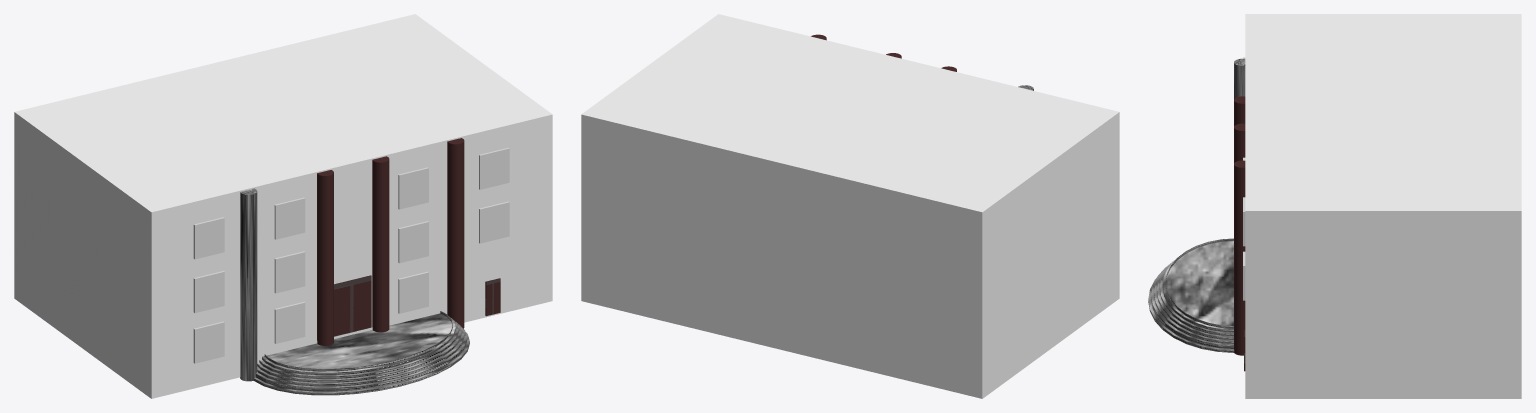
File: UnfinishedMansion0.fbx
3 renders of one model, left to right at view 1: azimuth 30°, elevation 25°; view 2: azimuth 150°, elevation 25°; view 3: azimuth 270°, elevation 25°, orthographic.
Visible parts, largest first — view 1: Cube.009, Cylinder.001, Cylinder.010, Cylinder.009, Cylinder.008, Cylinder, ManshionFrontDoor, Cube.002, Cube.003, Cube.012, Cube.004, Cube.013 (+7 smaller); view 2: Cube.009; view 3: Cube.009, Cylinder.001, Cylinder.009, Cylinder.010, Cylinder.008, Cylinder.
Part boxes in pixels (x1=…): Cube.009: x1=14, y1=14, x2=552, y2=398; Cylinder.001: x1=253, y1=311, x2=469, y2=395; Cylinder.010: x1=240, y1=188, x2=257, y2=381; Cylinder.009: x1=447, y1=138, x2=464, y2=328; Cylinder.008: x1=372, y1=156, x2=389, y2=332; Cylinder: x1=317, y1=170, x2=333, y2=345; ManshionFrontDoor: x1=334, y1=275, x2=371, y2=336; Cube.002: x1=193, y1=321, x2=224, y2=363; Cube.003: x1=193, y1=217, x2=224, y2=259; Cube.012: x1=274, y1=197, x2=305, y2=239; Cube.004: x1=193, y1=271, x2=224, y2=312; Cube.013: x1=274, y1=251, x2=305, y2=293; Cube.009: x1=581, y1=14, x2=1119, y2=398; Cube.009: x1=1245, y1=14, x2=1521, y2=398; Cylinder.001: x1=1148, y1=238, x2=1234, y2=352; Cylinder.009: x1=1234, y1=160, x2=1245, y2=355; Cylinder.010: x1=1234, y1=58, x2=1245, y2=98; Cylinder.008: x1=1234, y1=123, x2=1245, y2=162; Cylinder: x1=1234, y1=96, x2=1245, y2=126.
Size of the model in its own units: 5400 by 2417 by 4323.
